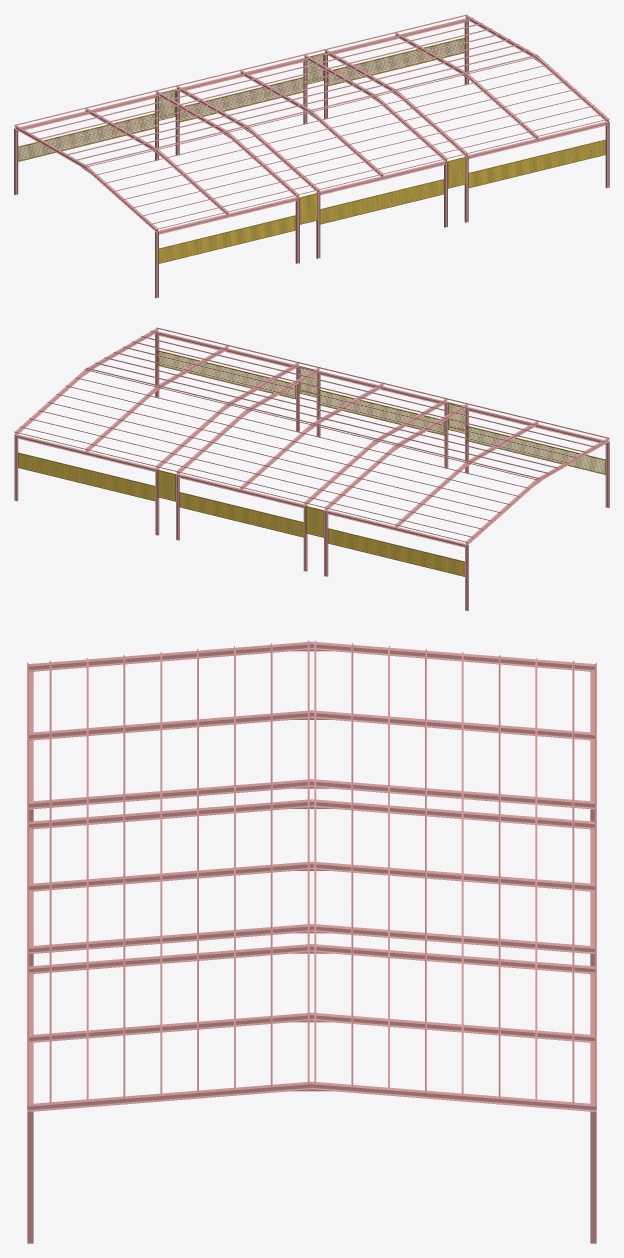
The model's file is full_frame.gltf.
3 renders of one model, top to bottom at view 1: azimuth 30°, elevation 25°; view 2: azimuth 150°, elevation 25°; view 3: azimuth 270°, elevation 25°, orthographic. The views are drawn at different scales.
Visible parts, largest first — view 1: 3DGeom-3, 3DGeom-2, 3DGeom-30, 3DGeom-45, 3DGeom-44, 3DGeom-46, 3DGeom-1, 3DGeom-27, 3DGeom-32, 3DGeom-35, 3DGeom-40, 3DGeom-42 (+29 smaller); view 2: 3DGeom-44, 3DGeom-45, 3DGeom-46, 3DGeom-2, 3DGeom-3, 3DGeom-30, 3DGeom-43, 3DGeom-48, 3DGeom-49, 3DGeom-50, 3DGeom-52, 3DGeom-54 (+29 smaller); view 3: 3DGeom-39, 3DGeom-37, 3DGeom-26, 3DGeom-29, 3DGeom-33, 3DGeom-36, 3DGeom-34, 3DGeom-31, 3DGeom-28, 3DGeom-1, 3DGeom-43, 3DGeom-47 (+17 smaller).
Part boxes in pixels (x1,y1,x2,y2): 3DGeom-3: [468, 139, 605, 188]; 3DGeom-2: [159, 215, 296, 263]; 3DGeom-30: [320, 179, 444, 224]; 3DGeom-45: [18, 113, 156, 161]; 3DGeom-44: [328, 37, 466, 86]; 3DGeom-46: [179, 76, 304, 122]; 3DGeom-1: [84, 54, 537, 166]; 3DGeom-27: [66, 44, 519, 155]; 3DGeom-32: [14, 14, 467, 125]; 3DGeom-35: [29, 23, 482, 134]; 3DGeom-40: [38, 28, 491, 139]; 3DGeom-42: [56, 39, 510, 150]; 3DGeom-44: [18, 452, 155, 501]; 3DGeom-45: [327, 528, 464, 576]; 3DGeom-46: [179, 492, 303, 537]; 3DGeom-2: [467, 426, 605, 474]; 3DGeom-3: [157, 350, 295, 399]; 3DGeom-30: [319, 389, 444, 435]; 3DGeom-43: [86, 367, 539, 479]; 3DGeom-48: [104, 357, 557, 468]; 3DGeom-49: [156, 327, 609, 438]; 3DGeom-50: [141, 336, 594, 447]; 3DGeom-52: [132, 341, 585, 452]; 3DGeom-54: [113, 352, 567, 463]; 3DGeom-39: [27, 1081, 596, 1111]; 3DGeom-37: [29, 944, 594, 974]; 3DGeom-26: [29, 641, 594, 671]; 3DGeom-29: [29, 1012, 594, 1042]; 3DGeom-33: [29, 779, 594, 809]; 3DGeom-36: [29, 924, 594, 954]; 3DGeom-34: [29, 799, 594, 829]; 3DGeom-31: [29, 710, 594, 740]; 3DGeom-28: [29, 861, 594, 891]; 3DGeom-1: [314, 640, 316, 1084]; 3DGeom-43: [307, 640, 309, 1084]; 3DGeom-47: [351, 643, 353, 1087].
Bounding box in the file's own units: 42.5 × 7.22 × 23.14.
Materials: 2 (1 with a texture image).
